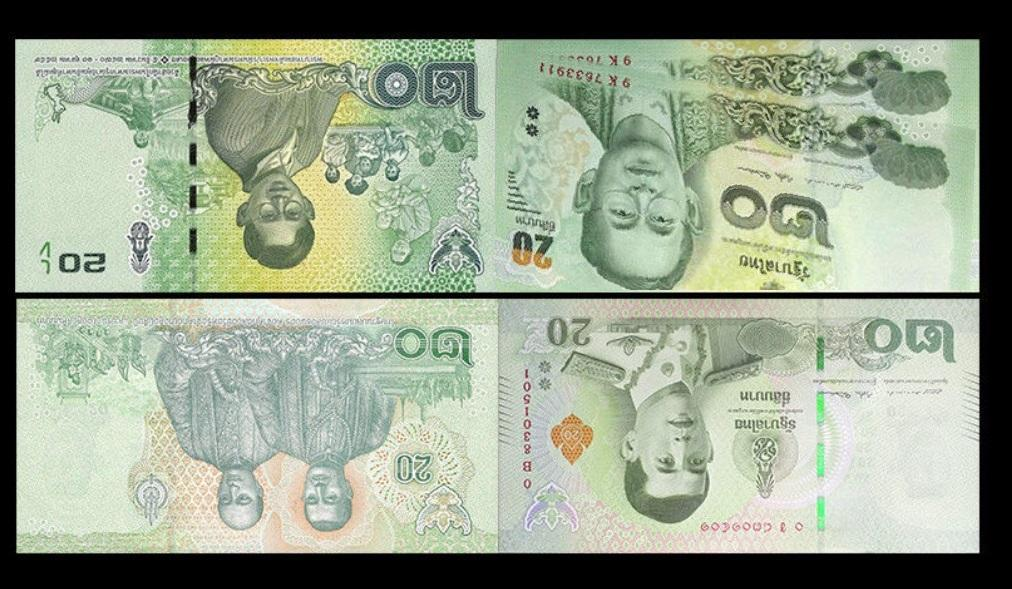20BahtTai: (495, 45, 976, 291)
